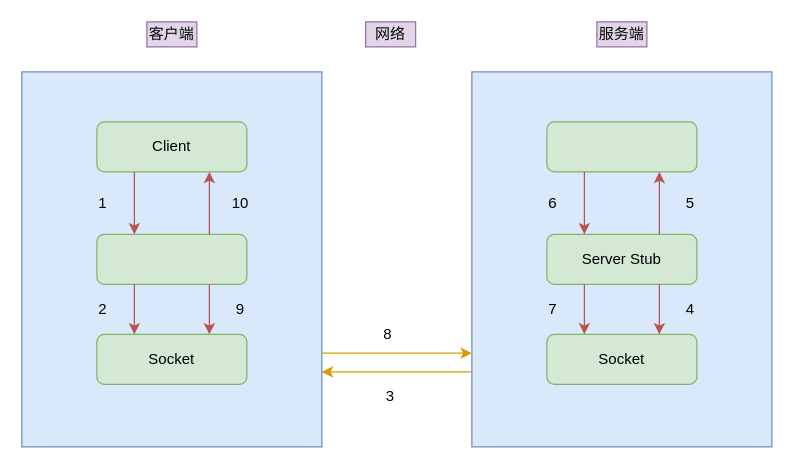
Some shapes in this 794 by 469 pixel diagram are drawn without their labels. The box of each missing label's shape, as (x1, y1, x2, y2) in pixels:
Client Stub: (96, 233, 247, 284)
Server: (546, 121, 697, 172)
